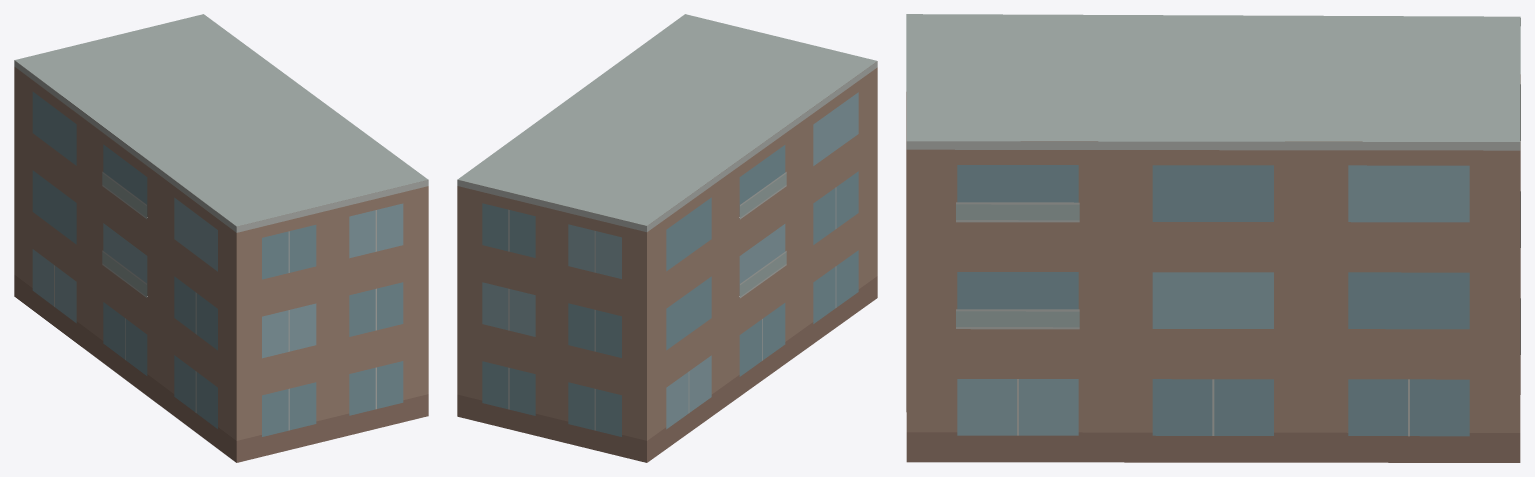
File: survey-upis-32999056.glb
3 renders of one model, left to right at view 1: azimuth 30°, elevation 25°; view 2: azimuth 150°, elevation 25°; view 3: azimuth 270°, elevation 25°, orthographic. The views are drawn at different scales.
Parts seen in each view (by area): view 1: survey-upis-32999056.tmp; view 2: survey-upis-32999056.tmp; view 3: survey-upis-32999056.tmp.
Boxes of the visible parts, box(x1,y1,x2,y2) form: survey-upis-32999056.tmp: box(14, 14, 428, 462); survey-upis-32999056.tmp: box(457, 14, 877, 462); survey-upis-32999056.tmp: box(906, 14, 1520, 462).
Bounding box in the file's own units: 7.84 × 9.15 × 15.89.
